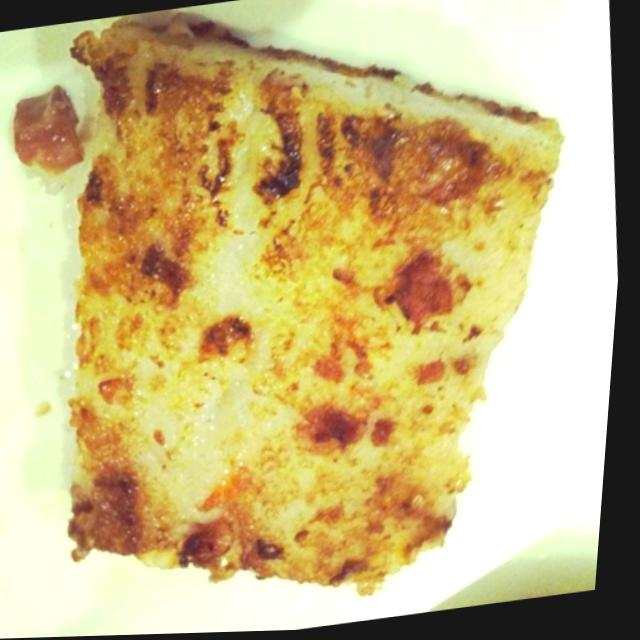蛋糕甜品: (0, 0, 623, 630)
